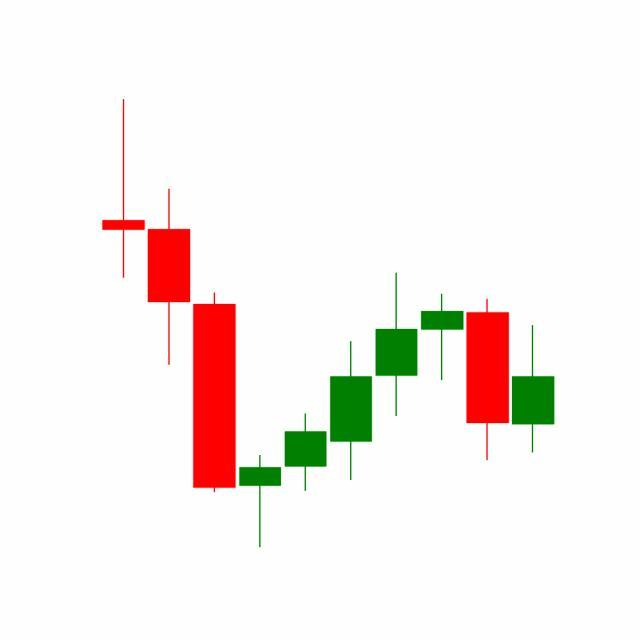Hikkake Pattern: (283, 271, 512, 495)
